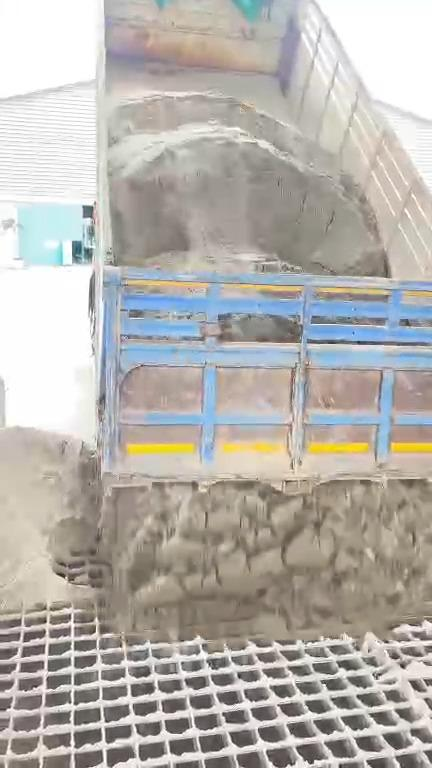sand: (101, 480, 430, 639), (108, 94, 386, 273), (0, 428, 98, 609), (243, 259, 255, 271)
